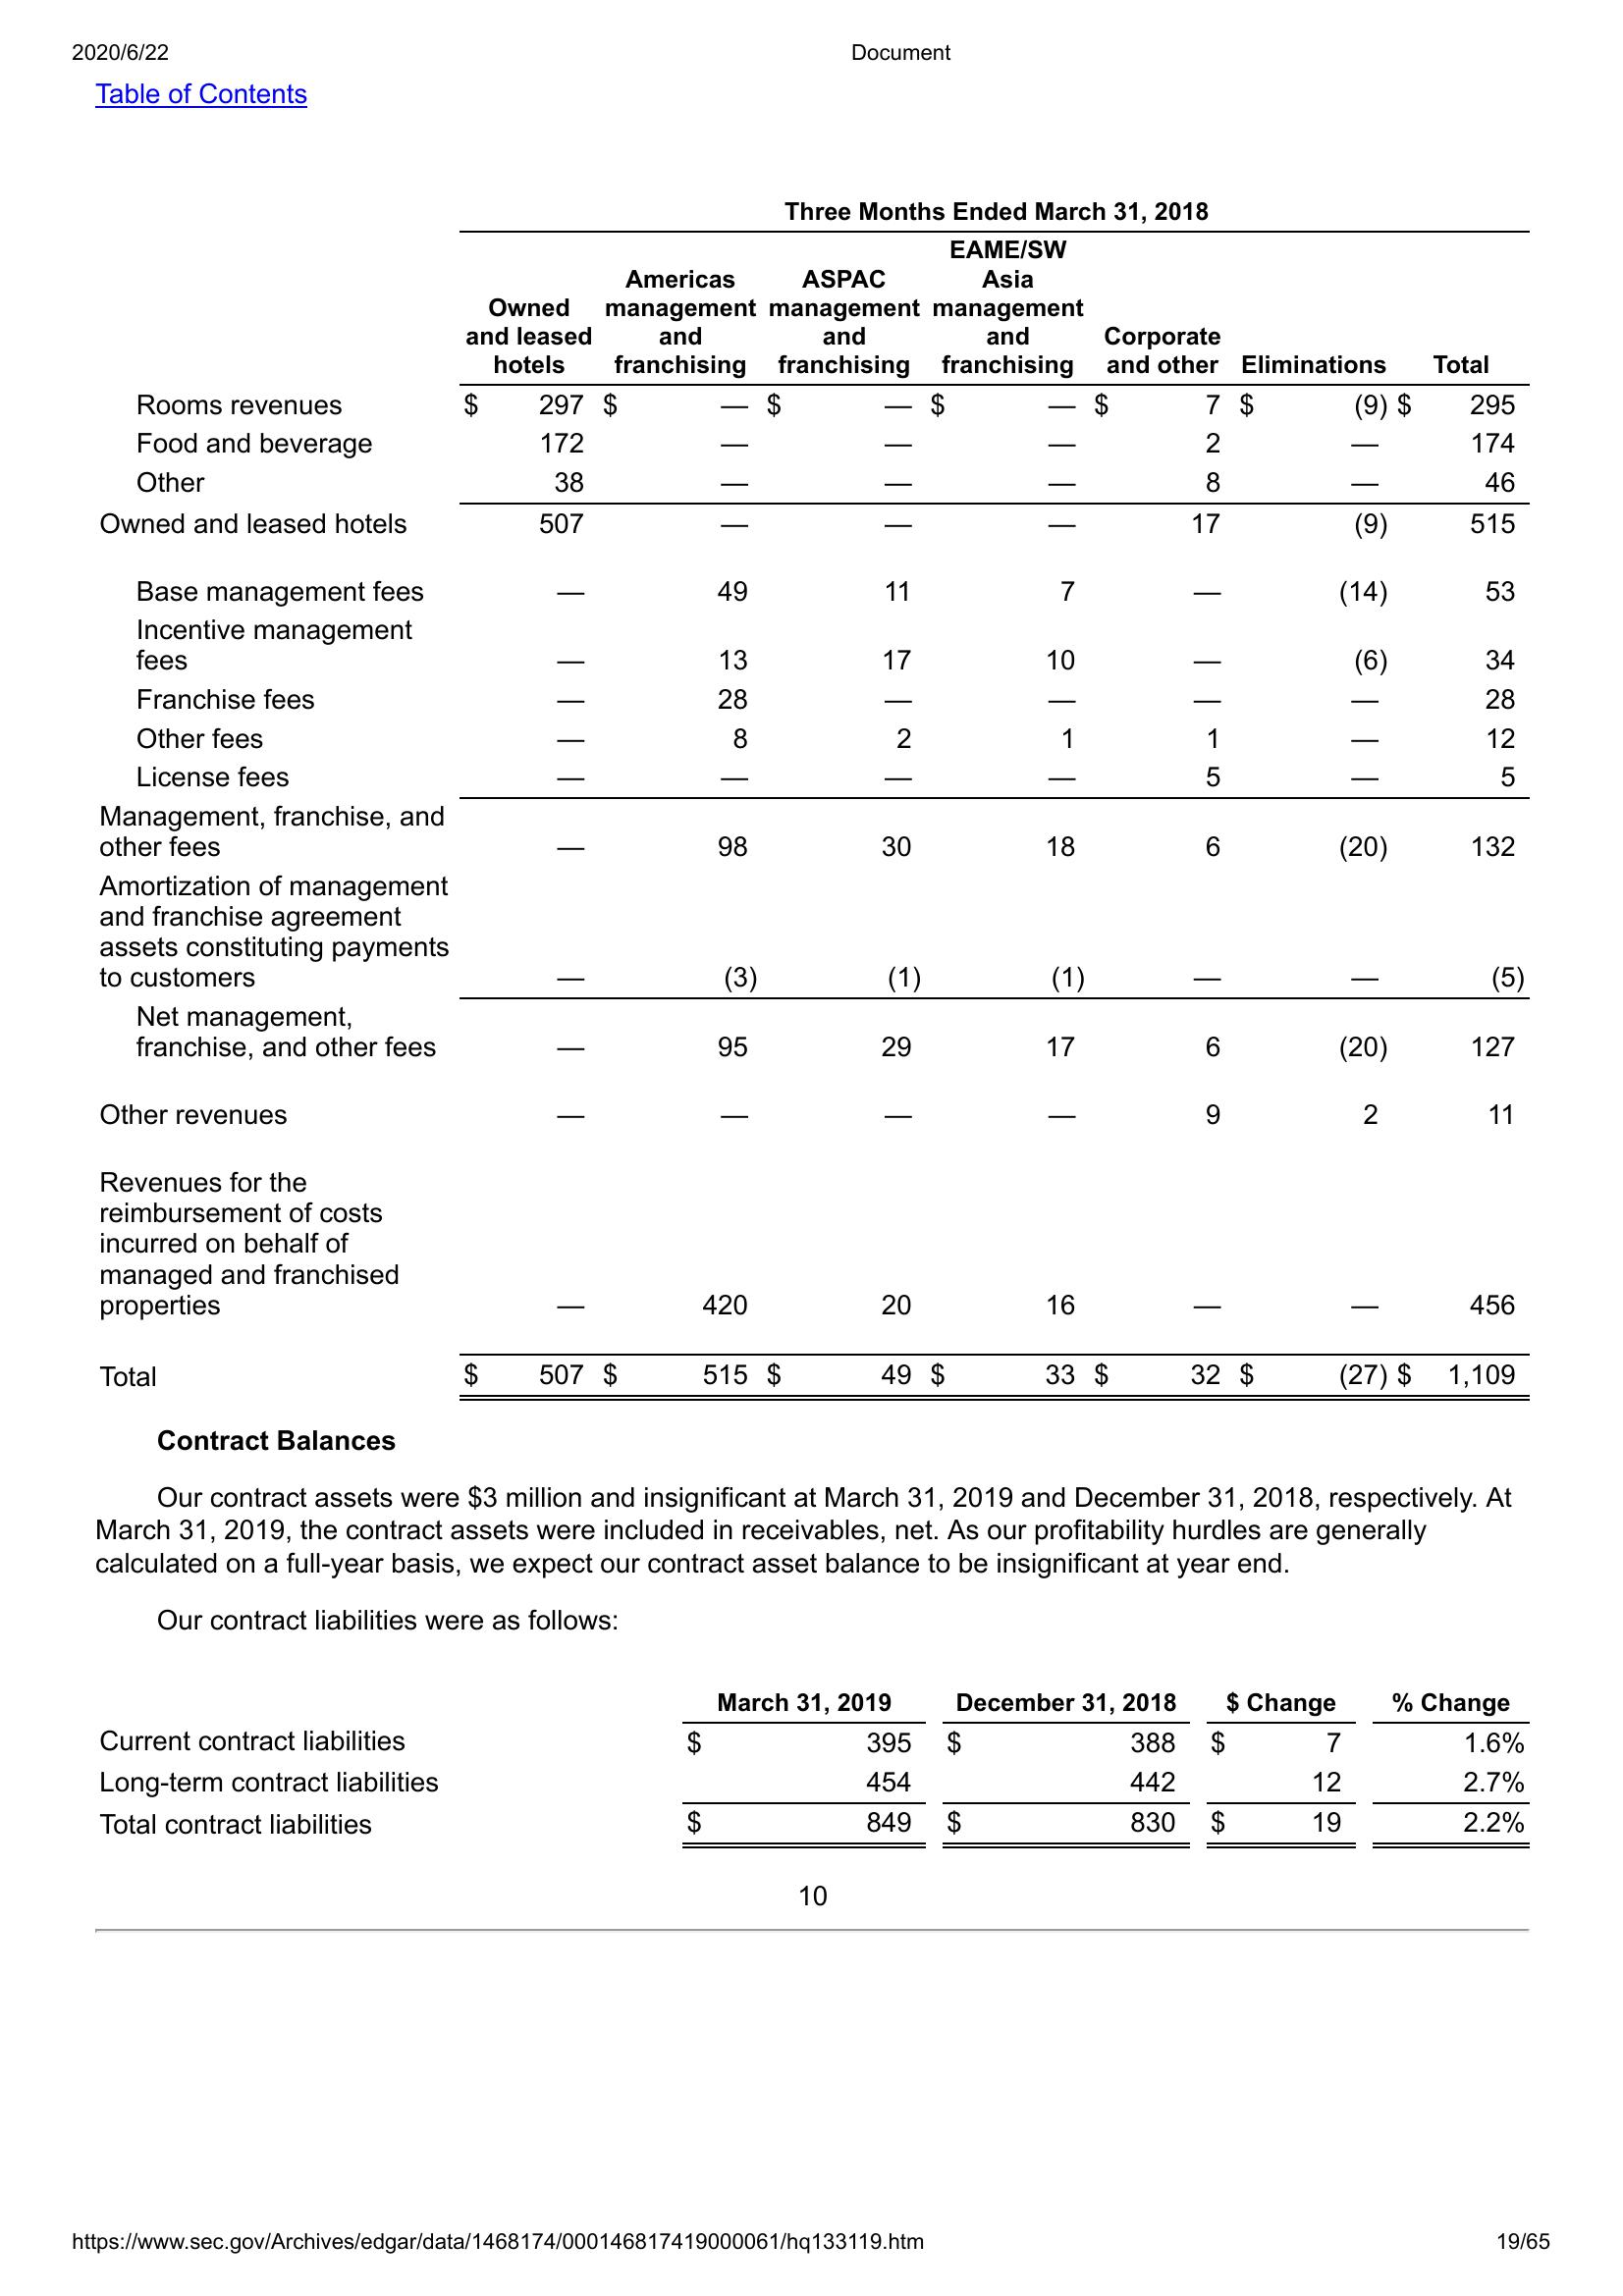table: (88, 177, 1540, 1408), (88, 1664, 1539, 1861)
